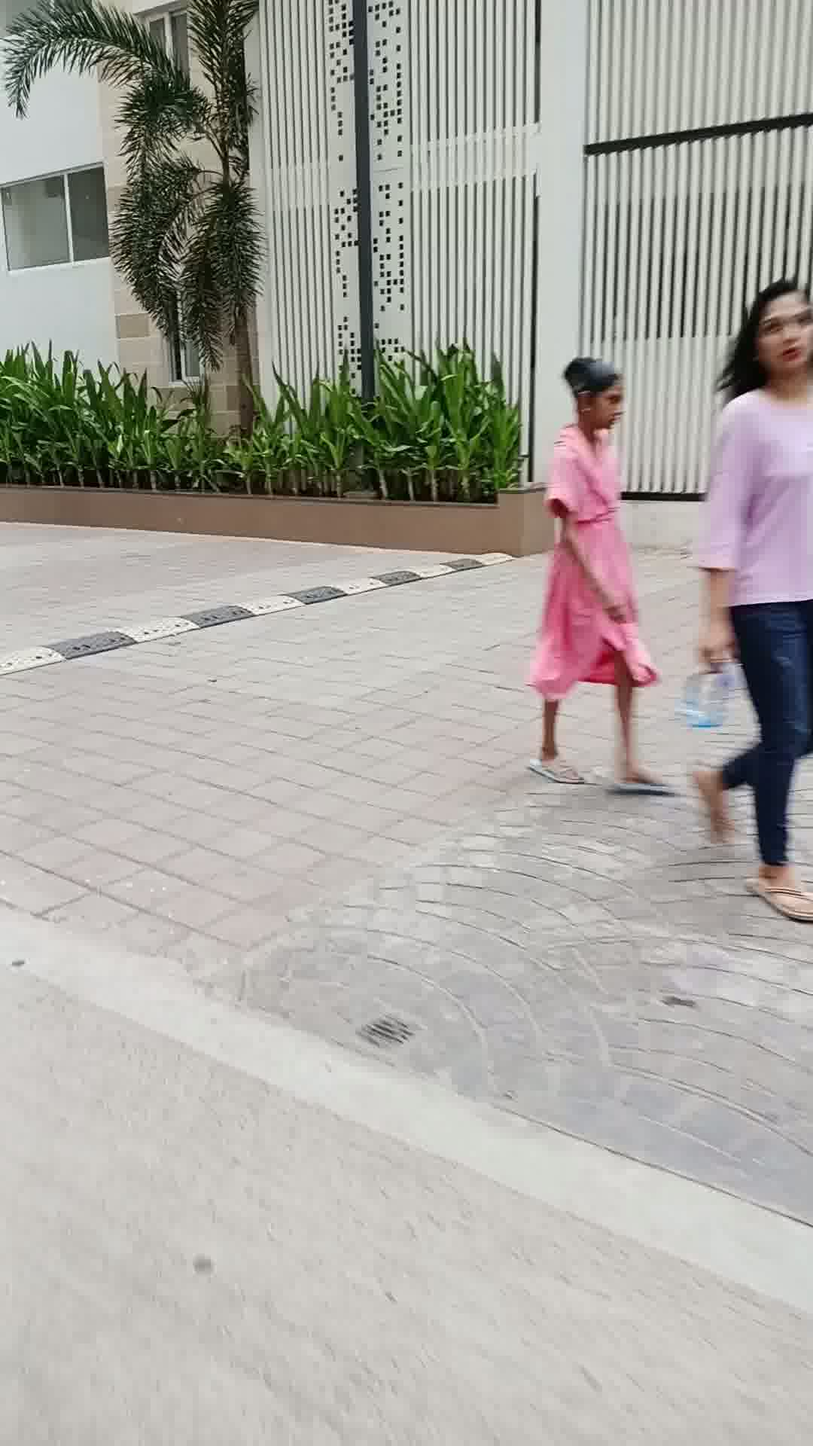person: (691, 270, 813, 945), (543, 330, 657, 848)
tree: (3, 3, 307, 492)
